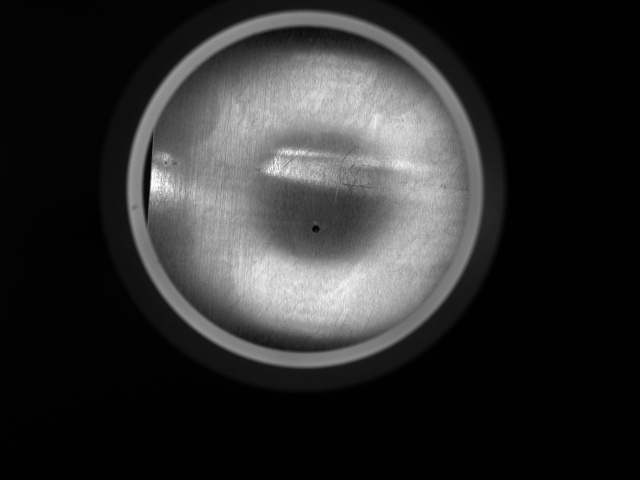zhen_kong: (308, 219, 322, 237)
